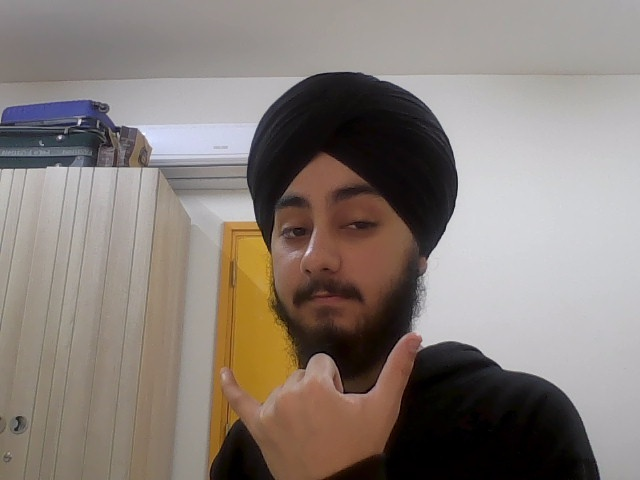Wrong: (213, 330, 426, 480)
